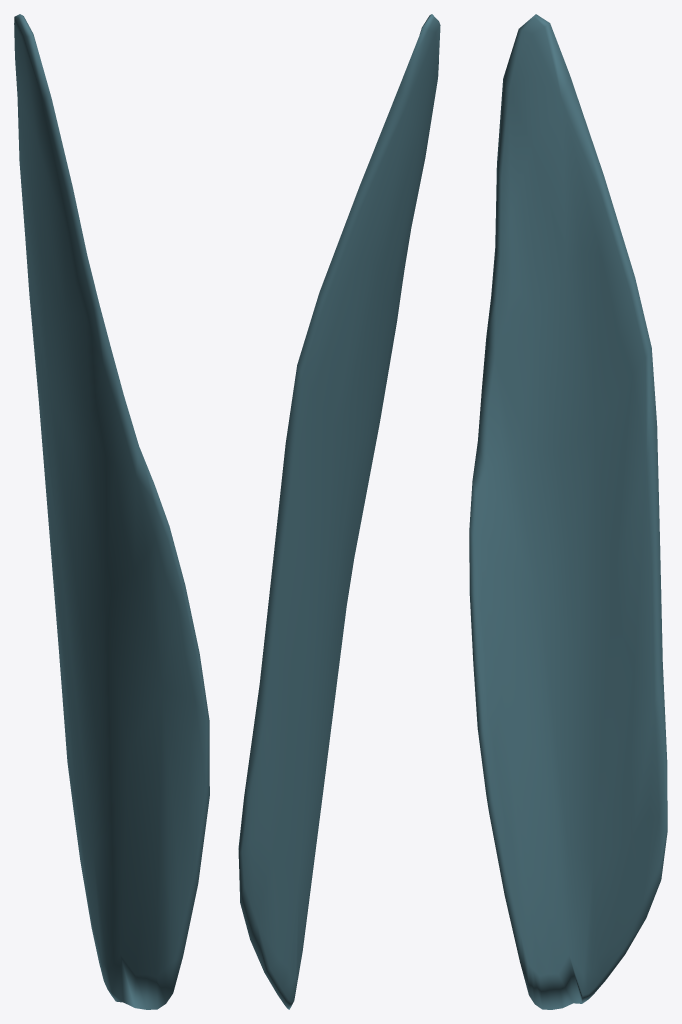
The model's file is Coracoradialis_humeral_insertion_left.glb.
3 renders of one model, left to right at view 1: azimuth 30°, elevation 25°; view 2: azimuth 150°, elevation 25°; view 3: azimuth 270°, elevation 25°, orthographic. The views are drawn at different scales.
Parts seen in each view (by area): view 1: Coracoradialis_muscle-Humeral_insertion.l_Generated_Mesh_Fro; view 2: Coracoradialis_muscle-Humeral_insertion.l_Generated_Mesh_Fro; view 3: Coracoradialis_muscle-Humeral_insertion.l_Generated_Mesh_Fro.
Part boxes in pixels (bbox=[...]): Coracoradialis_muscle-Humeral_insertion.l_Generated_Mesh_Fro: bbox=[14, 14, 209, 1009]; Coracoradialis_muscle-Humeral_insertion.l_Generated_Mesh_Fro: bbox=[238, 14, 440, 1009]; Coracoradialis_muscle-Humeral_insertion.l_Generated_Mesh_Fro: bbox=[469, 14, 667, 1009].
Size of the model in its own units: 0.00779 by 0.0465 by 0.00893.
